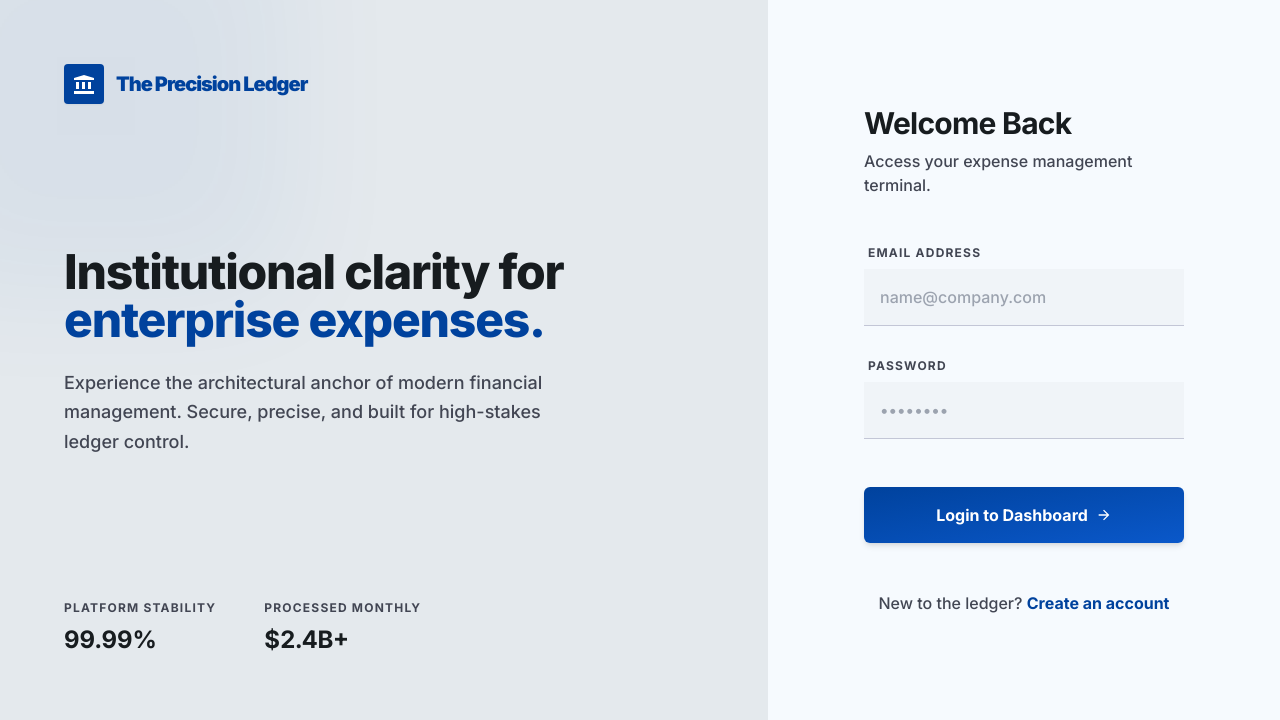
Scenario: LoginPage › disables submit button and shows loading text while submitting
In the field labelled "Email Address": (1024, 298) [864,269,1184,326], type "user@test.com"
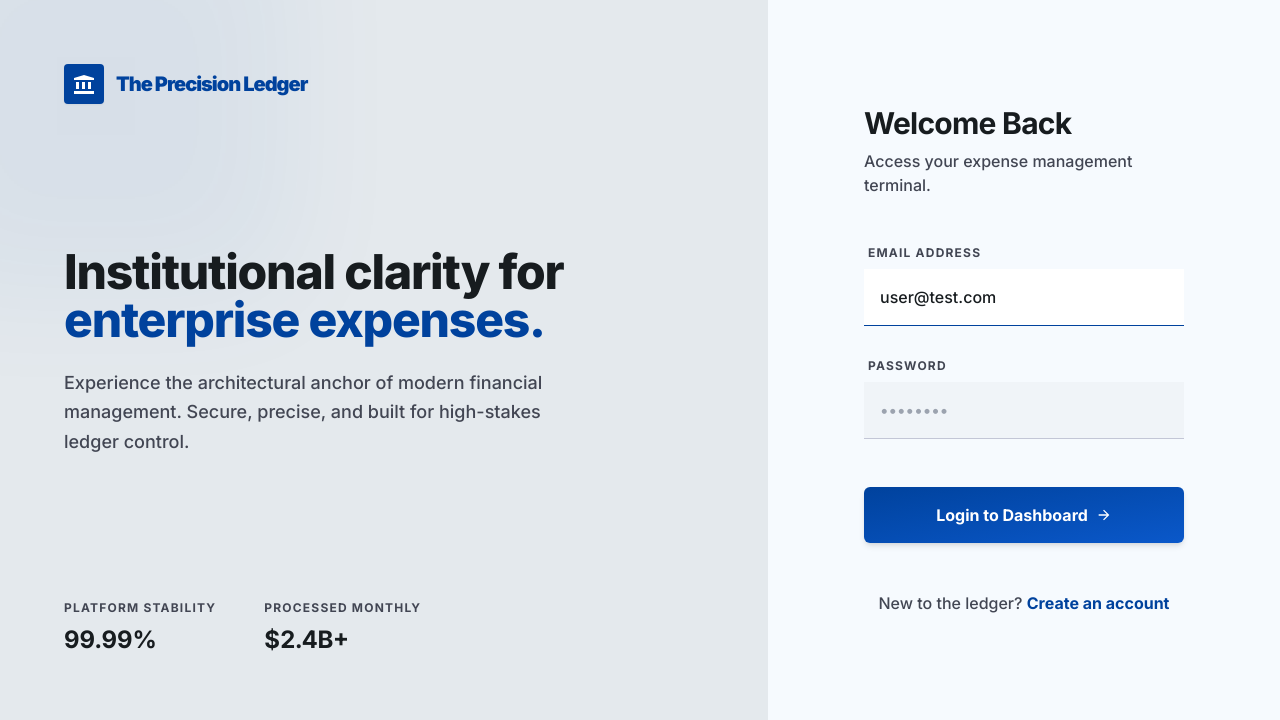
In the password field labelled "Password": (1024, 410) [864,382,1184,439], type "password123"
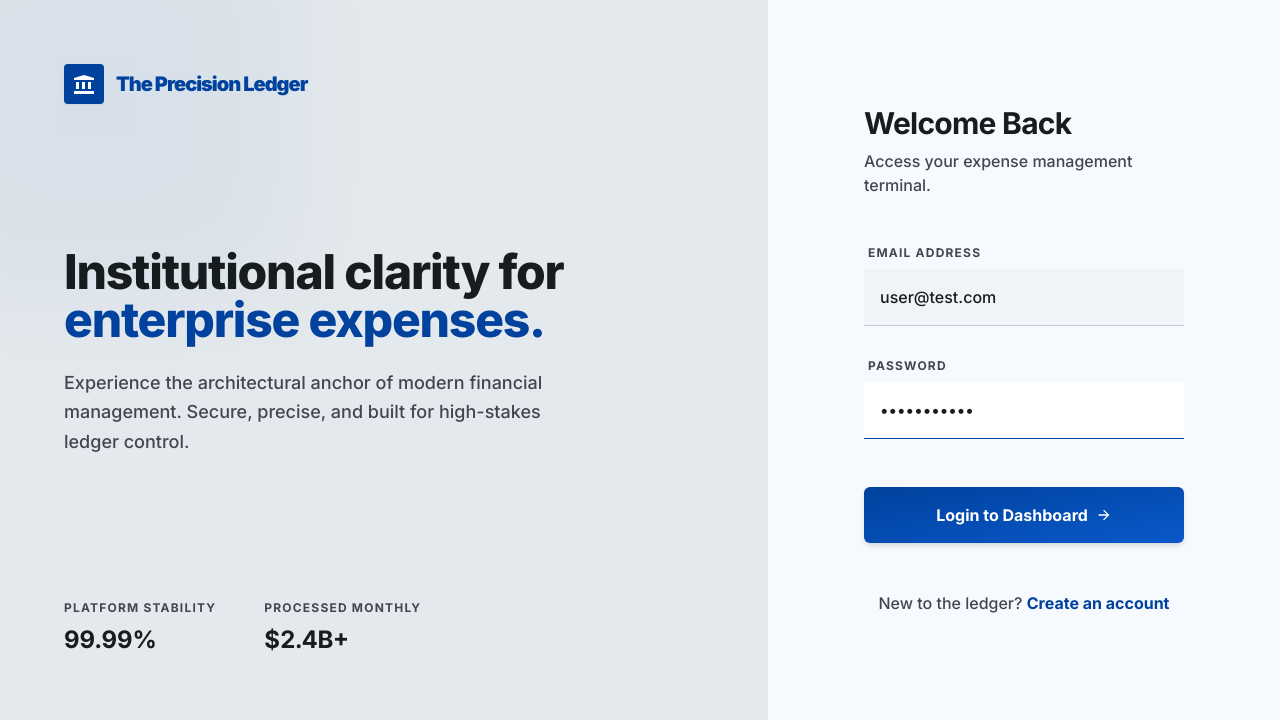
Click the button "Login to Dashboard": (1024, 515) [864,487,1184,543]
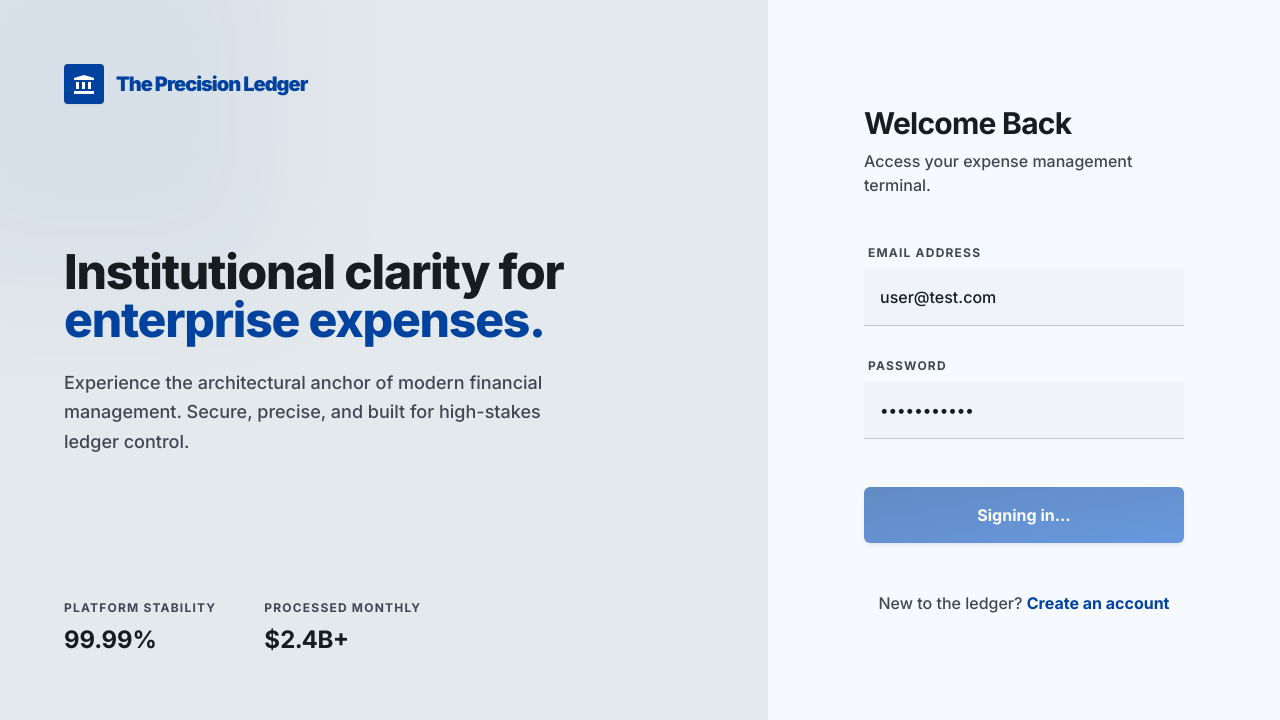
Expected: the button is disabled, [864,487,1184,543]
Expected: the text "Signing in..." is shown, [977,503,1071,527]
